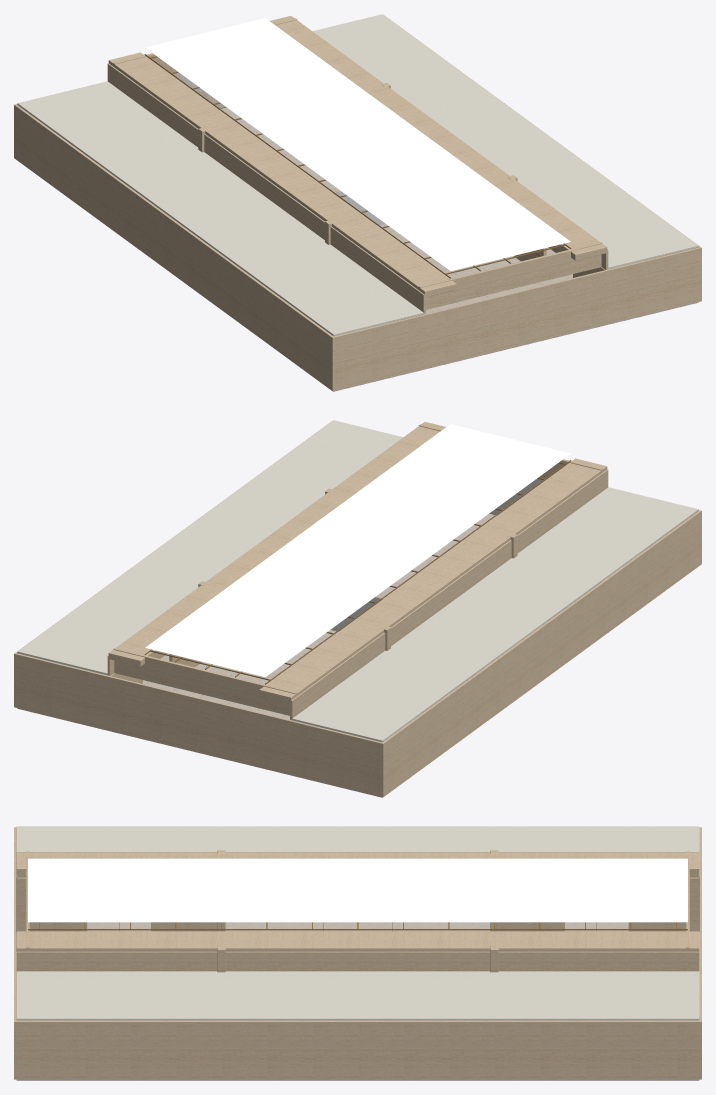
The model's file is pavilion-desktop.glb.
The picture shows the model from 3 angles, top to bottom: view 1: azimuth 30°, elevation 25°; view 2: azimuth 150°, elevation 25°; view 3: azimuth 270°, elevation 25°; orthographic projection. The views are drawn at different scales.
Visible parts, largest first — view 1: OVERHEAD_Ceiling finish, OVERHEAD_Rooflight diffuse sky, OVERHEAD_Cut limestone, SHELL_south, SHELL_west, SHELL_Floor, OVERHEAD_Patinated bronze; view 2: OVERHEAD_Ceiling finish, OVERHEAD_Rooflight diffuse sky, OVERHEAD_Cut limestone, SHELL_north, SHELL_west, SHELL_Floor, OVERHEAD_Patinated bronze; view 3: OVERHEAD_Ceiling finish, OVERHEAD_Rooflight diffuse sky, SHELL_east, OVERHEAD_Cut limestone, SHELL_Floor, ARCHITECTURE_Cut limestone, OVERHEAD_Patinated bronze, SHELL_north, SHELL_south.
Part boxes in pixels (x1=…): OVERHEAD_Ceiling finish: x1=17, y1=14, x2=698, y2=336; OVERHEAD_Rooflight diffuse sky: x1=145, y1=18, x2=570, y2=271; OVERHEAD_Cut limestone: x1=107, y1=16, x2=608, y2=314; SHELL_south: x1=331, y1=247, x2=701, y2=391; SHELL_west: x1=15, y1=105, x2=333, y2=389; SHELL_Floor: x1=80, y1=107, x2=698, y2=391; OVERHEAD_Patinated bronze: x1=144, y1=54, x2=571, y2=278; OVERHEAD_Ceiling finish: x1=17, y1=420, x2=698, y2=742; OVERHEAD_Rooflight diffuse sky: x1=145, y1=424, x2=570, y2=677; OVERHEAD_Cut limestone: x1=107, y1=422, x2=608, y2=720; SHELL_north: x1=14, y1=653, x2=384, y2=797; SHELL_west: x1=382, y1=511, x2=700, y2=795; SHELL_Floor: x1=17, y1=513, x2=635, y2=797; OVERHEAD_Patinated bronze: x1=144, y1=460, x2=571, y2=684; OVERHEAD_Ceiling finish: x1=16, y1=826, x2=699, y2=1020; OVERHEAD_Rooflight diffuse sky: x1=28, y1=858, x2=687, y2=922; SHELL_east: x1=16, y1=1020, x2=699, y2=1079; OVERHEAD_Cut limestone: x1=16, y1=850, x2=699, y2=972; SHELL_Floor: x1=16, y1=922, x2=699, y2=1080; ARCHITECTURE_Cut limestone: x1=17, y1=877, x2=698, y2=931; OVERHEAD_Patinated bronze: x1=28, y1=922, x2=687, y2=930; SHELL_north: x1=699, y1=827, x2=701, y2=1079; SHELL_south: x1=14, y1=827, x2=16, y2=1079.
Size of what is drawn, in the model's own units: 40.48 by 9.11 by 60.48.
Materials: 13 (8 with a texture image).
